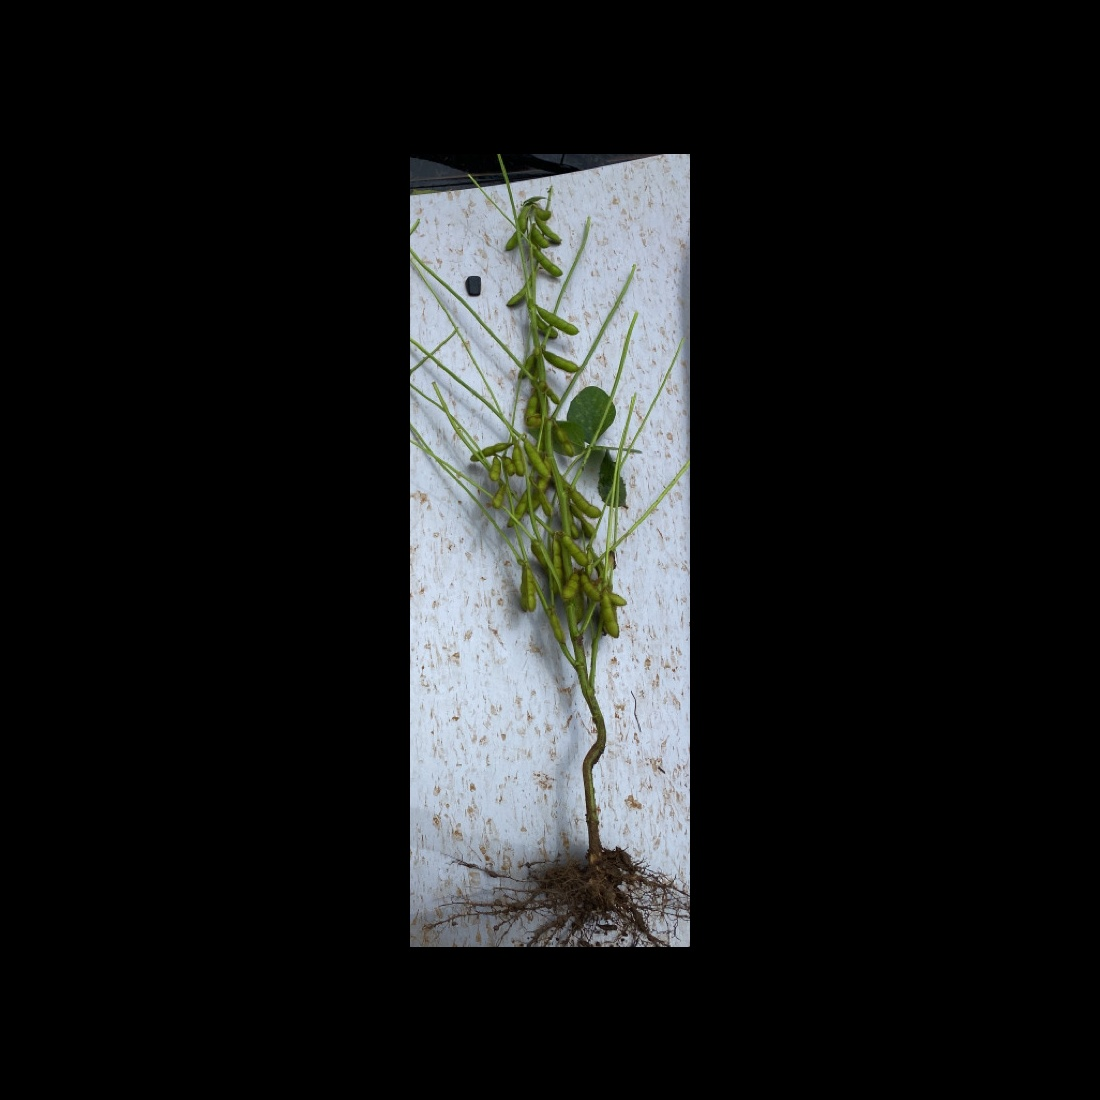pod: (524, 441, 549, 478), (471, 441, 514, 461), (561, 536, 589, 566), (601, 591, 618, 640), (545, 348, 579, 372), (507, 493, 529, 529), (535, 250, 564, 277), (506, 278, 532, 307), (581, 575, 601, 601), (527, 566, 537, 613), (562, 575, 579, 599), (518, 566, 526, 613), (552, 613, 564, 643), (513, 446, 524, 477), (532, 230, 549, 249), (489, 457, 502, 482)
soy: (456, 188, 679, 908)
